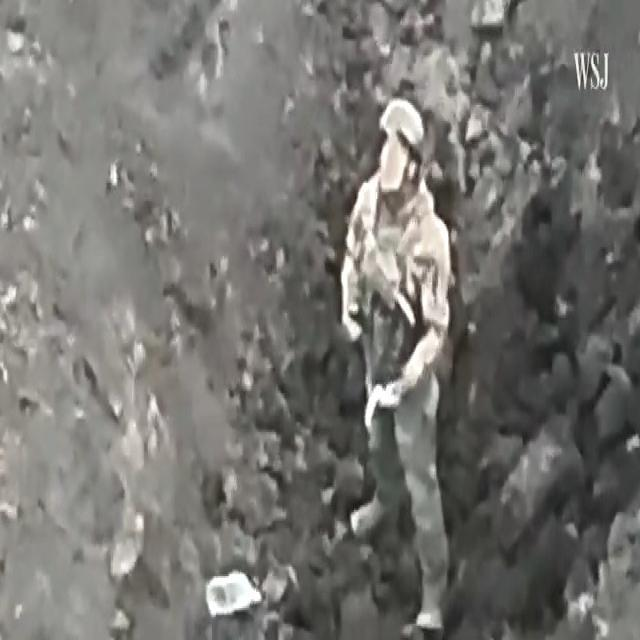MIL_Pax: (341, 98, 450, 632)
